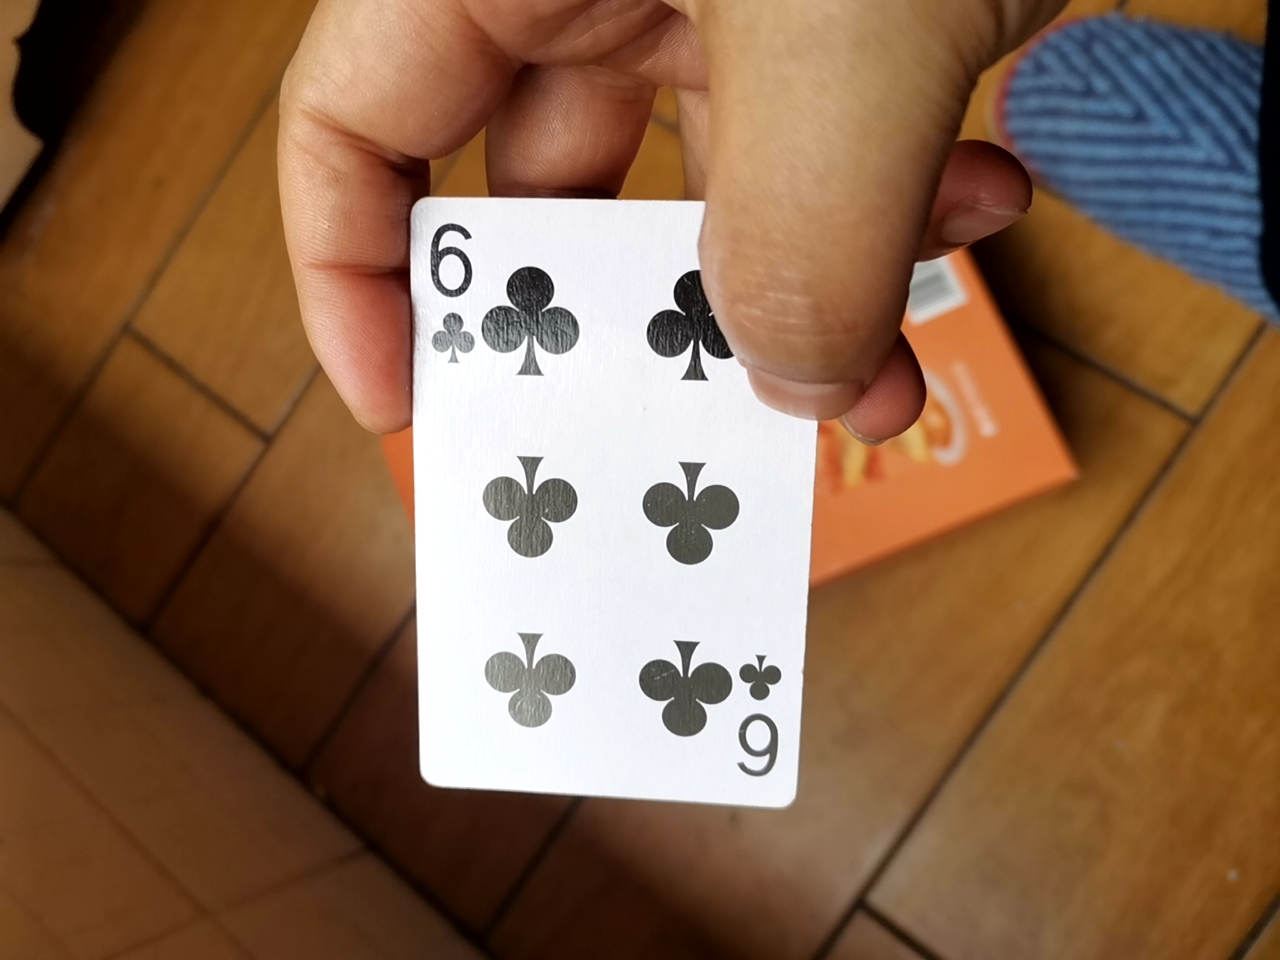mh 6: (410, 182, 842, 831)
